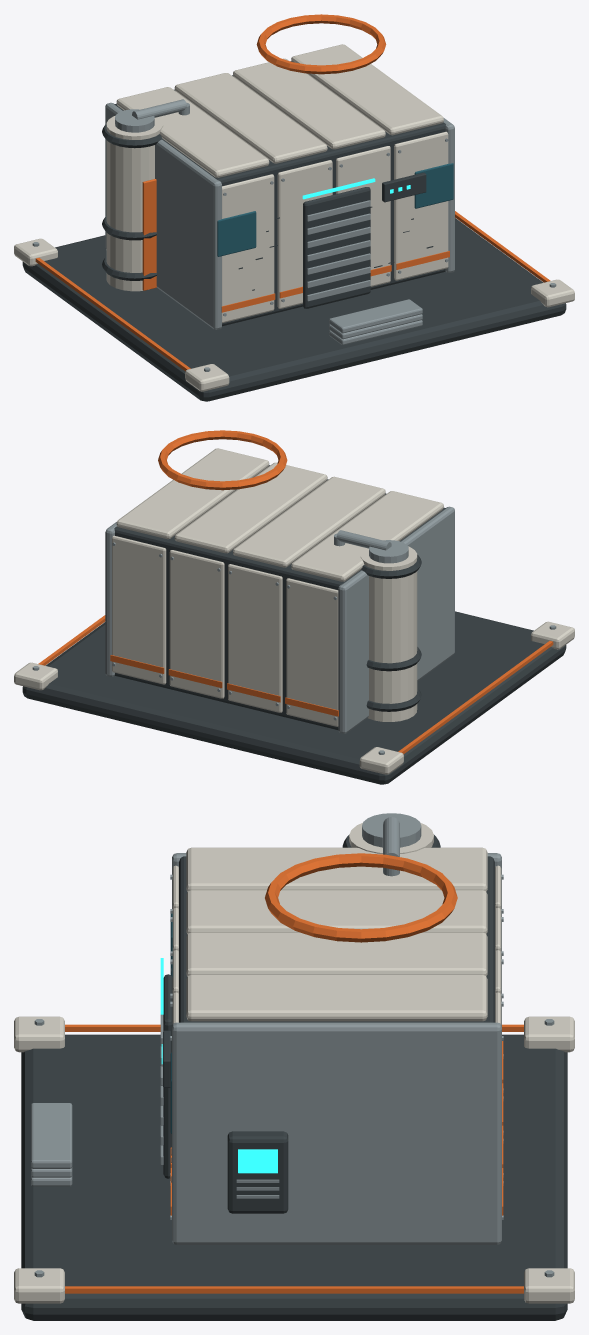
File: SM_OpticsFactory_Body.002.fbx
The picture shows the model from 3 angles, top to bottom: view 1: azimuth 30°, elevation 25°; view 2: azimuth 150°, elevation 25°; view 3: azimuth 270°, elevation 25°; orthographic projection. The views are drawn at different scales.
Parts seen in each view (by area): view 1: SM_OpticsFactory_Body.002; view 2: SM_OpticsFactory_Body.002; view 3: SM_OpticsFactory_Body.002.
Part boxes in pixels (x1,y1,x2,y2): SM_OpticsFactory_Body.002: (14, 14, 574, 401); SM_OpticsFactory_Body.002: (14, 430, 574, 784); SM_OpticsFactory_Body.002: (14, 813, 574, 1320).
Size of the model in its own units: 532 by 462 by 305.
